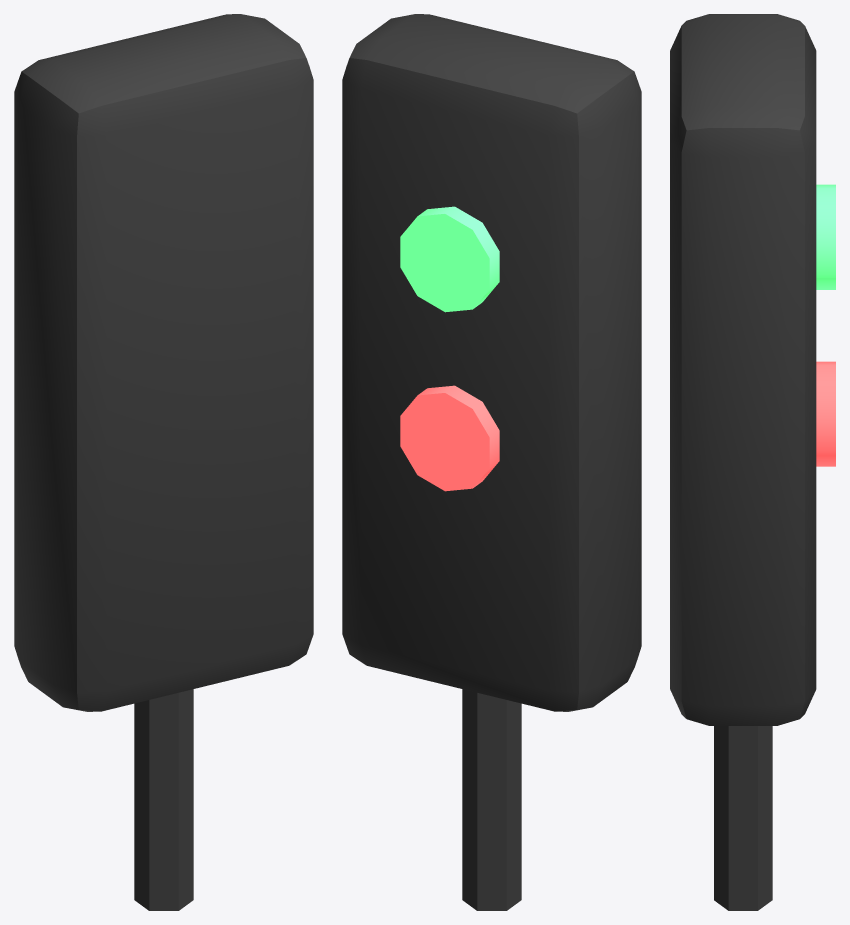
Rendered from winchremote.glb.
3 views of the same model, side by side, from view 1: azimuth 30°, elevation 25°; view 2: azimuth 150°, elevation 25°; view 3: azimuth 270°, elevation 25° (orthographic).
Visible parts, largest first — view 1: WinchRemote; view 2: WinchRemote; view 3: WinchRemote.
Part boxes in pixels (left/top/right/bottom): WinchRemote: left=14, top=14, right=313, bottom=910; WinchRemote: left=342, top=14, right=641, bottom=910; WinchRemote: left=670, top=14, right=835, bottom=910.
Bounding box in the file's own units: 0.06 × 0.19 × 0.034.
